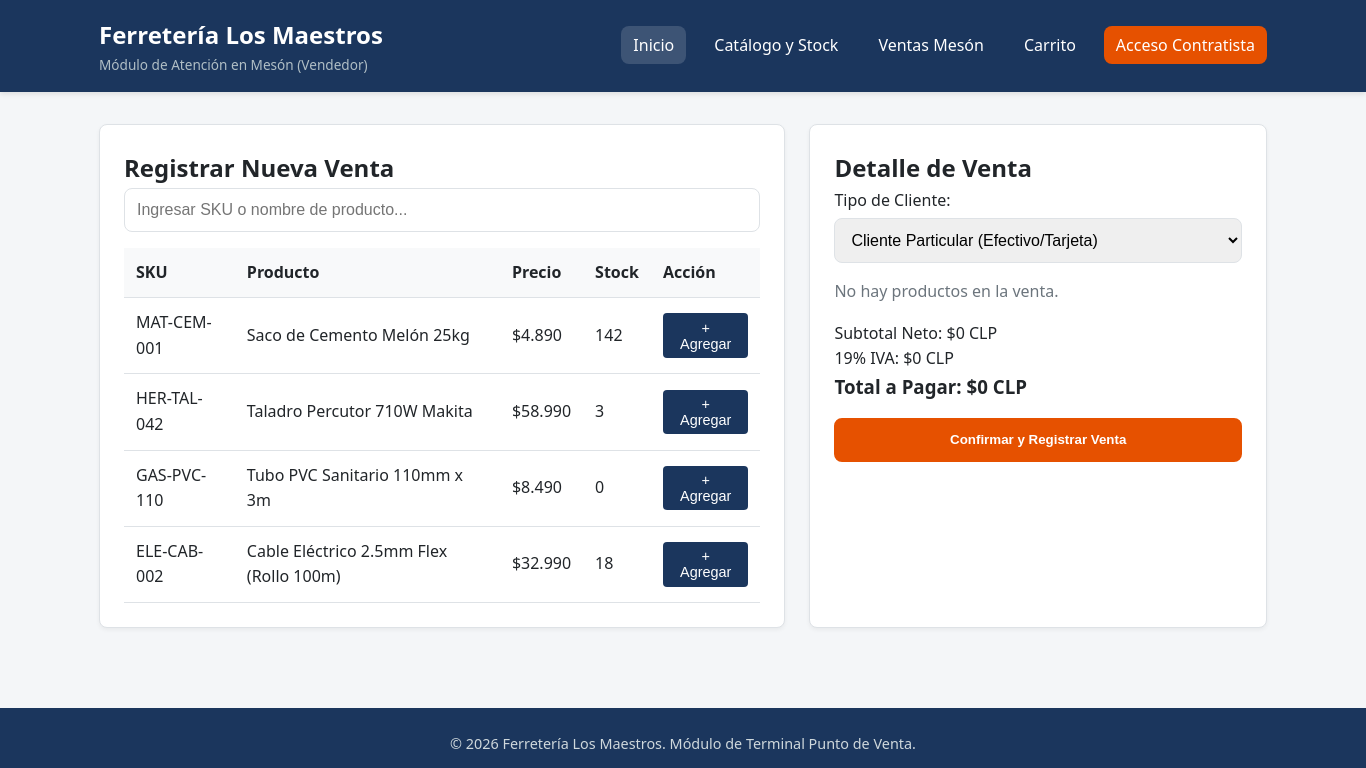
POS › agrega un producto al detalle de venta y acumula cantidades
Step 1. Click the button "+ Agregar" in the row of "MAT-CEM-001" → (706, 336), box 663,313 -> 748,358
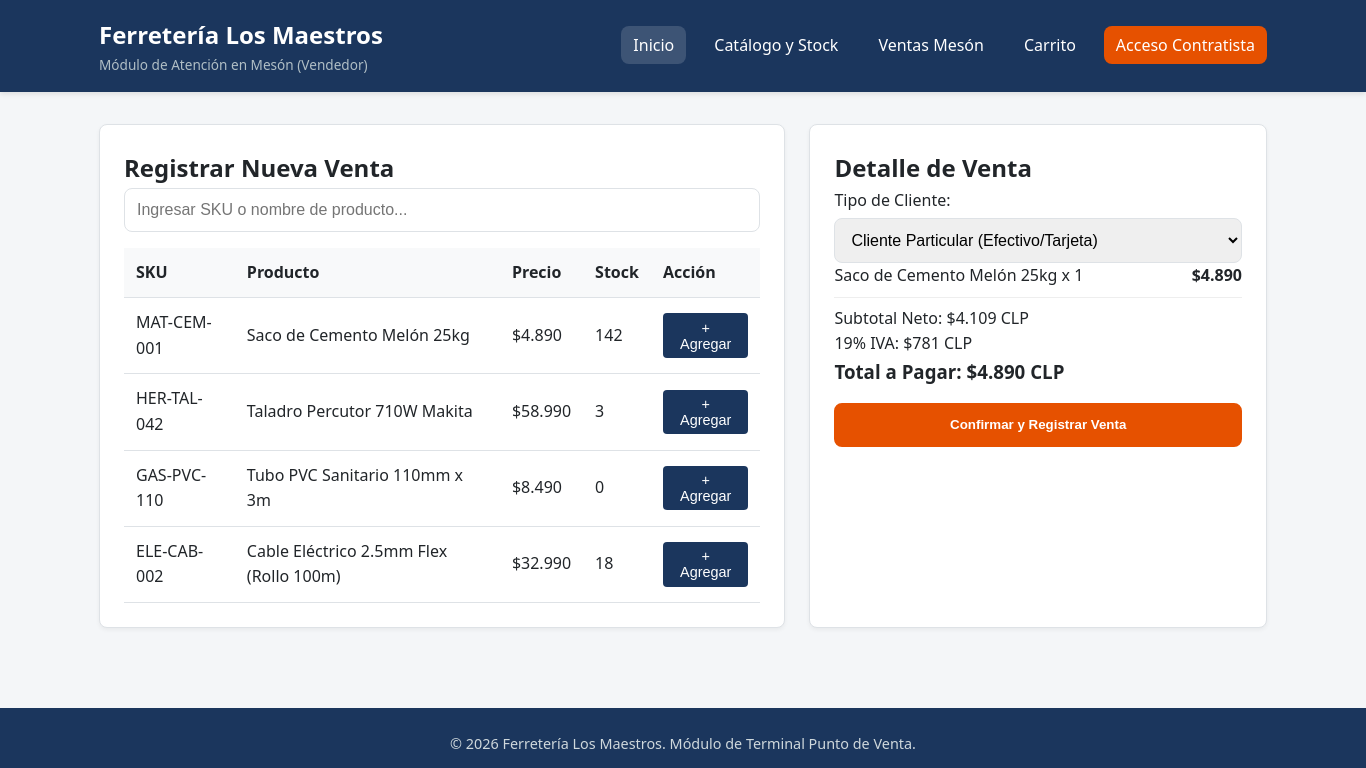
Step 2. Click the button "+ Agregar" in the row of "MAT-CEM-001" → (706, 336), box 663,313 -> 748,358
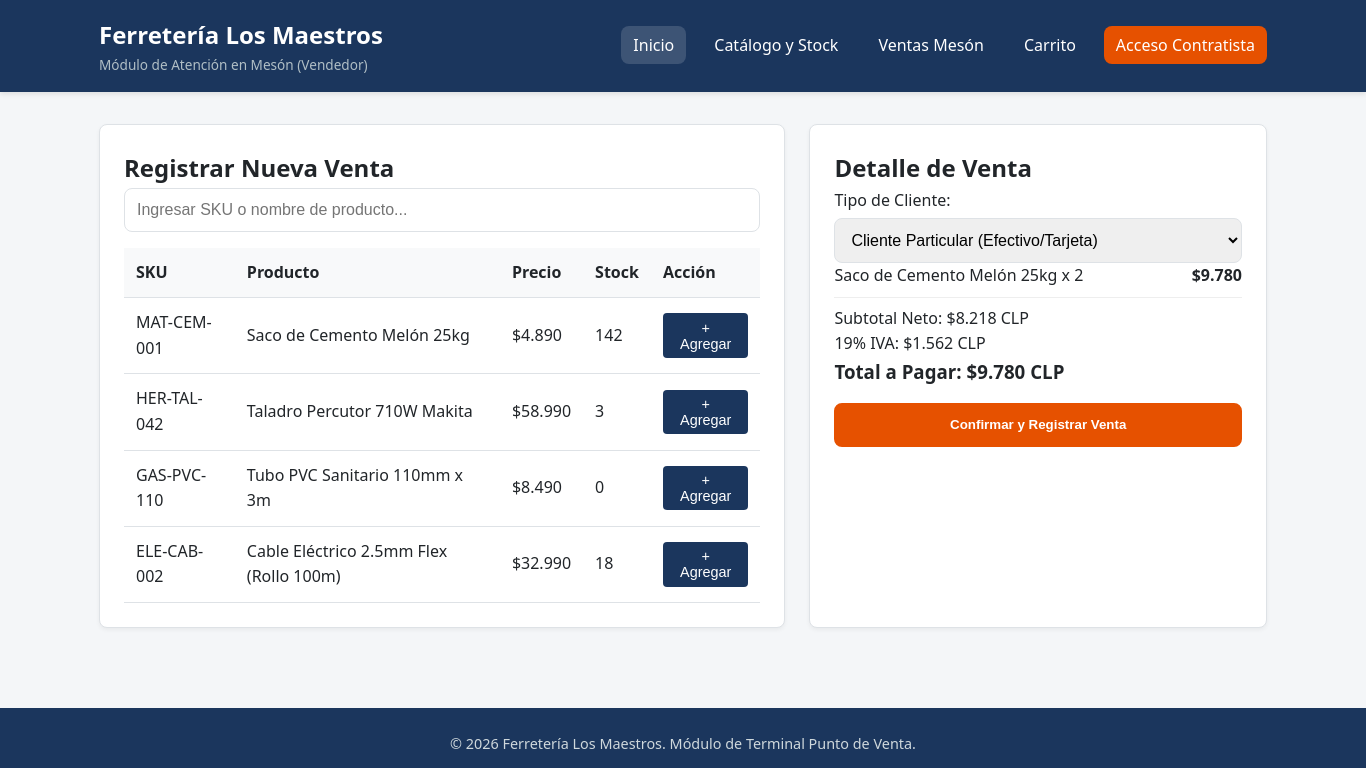
Now the text "Saco de Cemento Melón 25kg x 2" is shown, box 834,263 -> 1083,288
